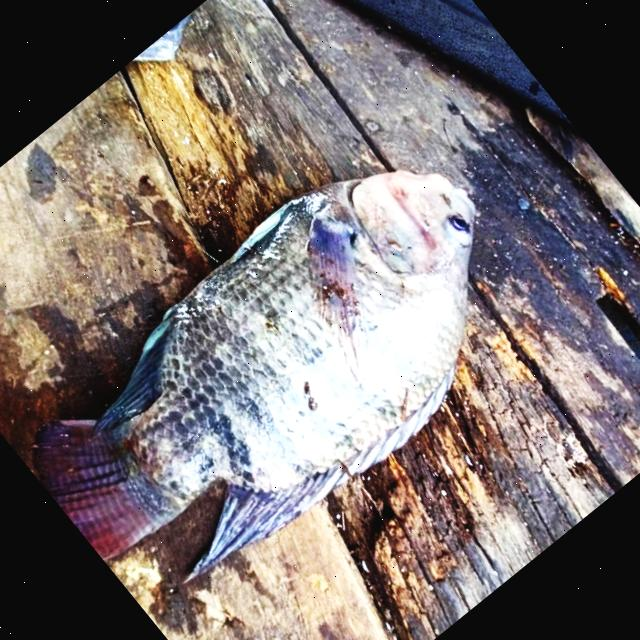Tilapia Lake Virus -TiLV-: (0, 107, 567, 639)
